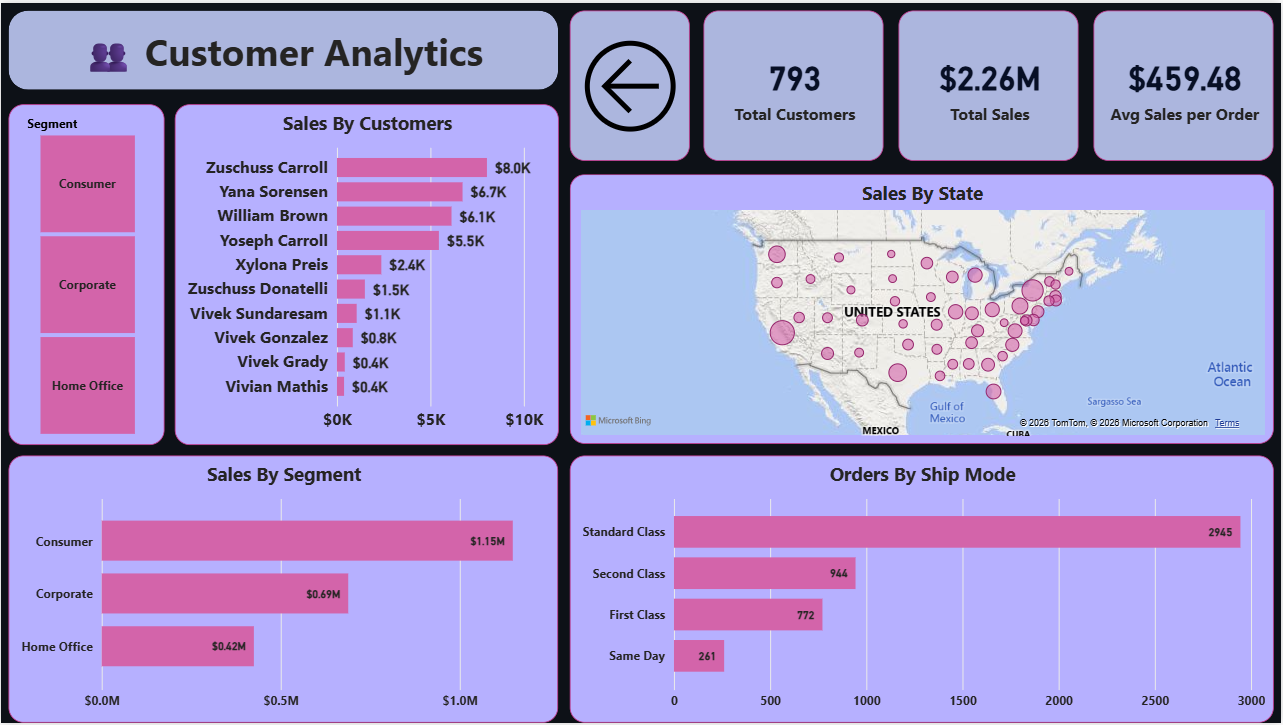

The page's visual inventory and layout, read from the dashboard file:
{"tool":"powerbi","page":{"name":"👥 Customer Analytics","canvas":[1280,720],"ordinal":2},"visuals":[{"type":"shape","box":[7.2,7.2,549.7,79.4],"z":0},{"type":"card","fields":{"Values":["_All Measures.Total Customers"]},"box":[702.6,7.2,180.3,150],"z":1000},{"type":"card","fields":{"Values":["_All Measures.Total Sales"]},"box":[897.4,7.2,180.3,150],"z":2000},{"type":"card","fields":{"Values":["_All Measures.Avg Sales per Order"]},"box":[1092.2,7.2,180.3,150],"z":3000},{"type":"slicer","fields":{"Values":["train.Segment"]},"box":[7.2,101,155.8,340.5],"z":4000},{"type":"clusteredBarChart","title":"Sales By Customers","fields":{"Category":["train.Customer Name"],"Y":["_All Measures.Total Sales"]},"box":[173.1,101,383.8,340.5],"z":5000},{"type":"clusteredBarChart","title":"Sales By Segment","fields":{"Category":["train.Segment"],"Y":["_All Measures.Total Sales"]},"box":[7.2,453,549.7,266.9],"z":6000},{"type":"map","title":"Sales By State","fields":{"Category":["train.State"],"Size":["_All Measures.Total Sales"]},"box":[568.4,171.7,704.1,269.8],"z":7000},{"type":"actionButton","box":[568.4,7.2,119.7,150],"z":8000},{"type":"clusteredBarChart","title":"Orders By Ship Mode","fields":{"Y":["_All Measures.Total Orders"],"Category":["train.Ship Mode"]},"box":[568.4,453,704.1,266.9],"z":9000}]}

Visuals, with their boxes in screenshot pixels (x1, y1, x2, y2), scaled from the page's 1280x720 canvas onto the 1283x725 screenshot:
shape: pyautogui.locateOnScreen(7, 7, 558, 87)
card - _All Measures.Total Customers: pyautogui.locateOnScreen(704, 7, 885, 158)
card - _All Measures.Total Sales: pyautogui.locateOnScreen(900, 7, 1080, 158)
card - _All Measures.Avg Sales per Order: pyautogui.locateOnScreen(1095, 7, 1275, 158)
slicer - train.Segment: pyautogui.locateOnScreen(7, 102, 163, 445)
"Sales By Customers" clusteredBarChart: pyautogui.locateOnScreen(174, 102, 558, 445)
"Sales By Segment" clusteredBarChart: pyautogui.locateOnScreen(7, 456, 558, 724)
"Sales By State" map: pyautogui.locateOnScreen(570, 173, 1275, 445)
actionButton: pyautogui.locateOnScreen(570, 7, 690, 158)
"Orders By Ship Mode" clusteredBarChart: pyautogui.locateOnScreen(570, 456, 1275, 724)
